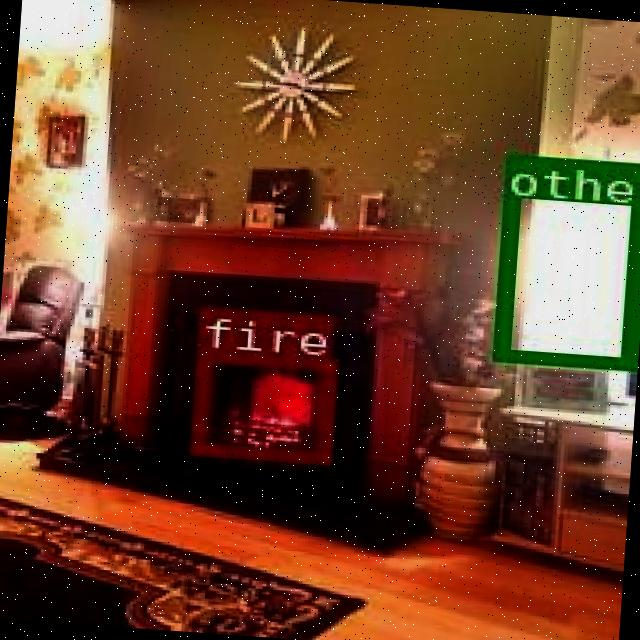fire: (186, 349, 332, 460)
